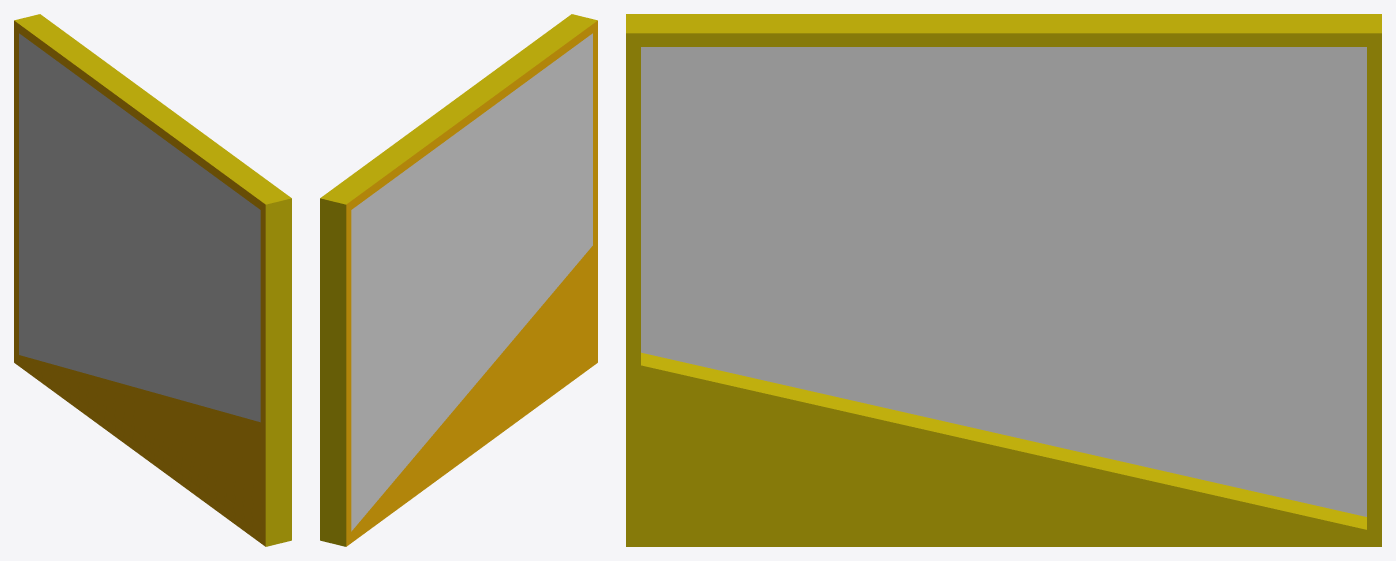
Rendered from 709_window_side_2.dae.
The picture shows the model from 3 angles, left to right: view 1: azimuth 30°, elevation 25°; view 2: azimuth 150°, elevation 25°; view 3: azimuth 270°, elevation 25°; orthographic projection. The views are drawn at different scales.
Parts seen in each view (by area): view 1: Cube; view 2: Cube; view 3: Cube.
Part boxes in pixels (x1,y1,x2,y2): Cube: (14, 14, 291, 546); Cube: (320, 14, 597, 546); Cube: (626, 14, 1381, 546).
Bounding box in the file's own units: 0.06 × 1 × 0.75.
